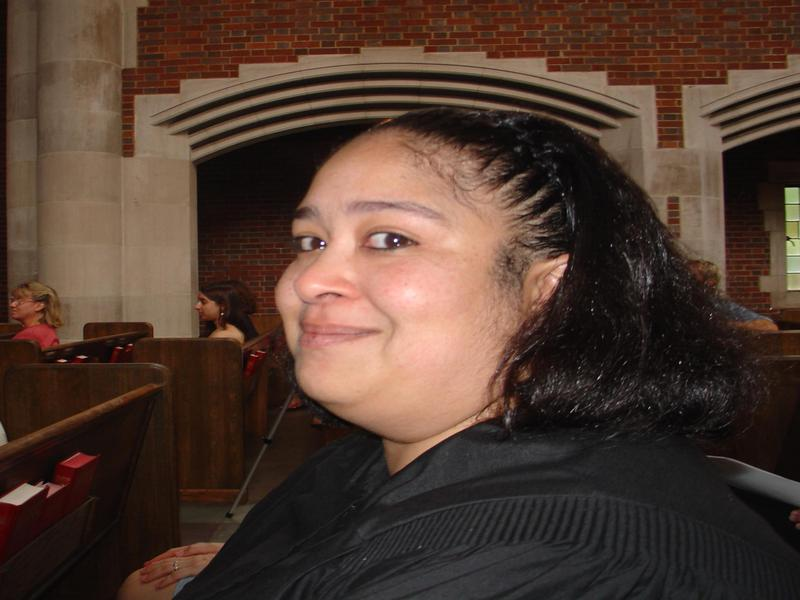person: (197, 106, 786, 600)
